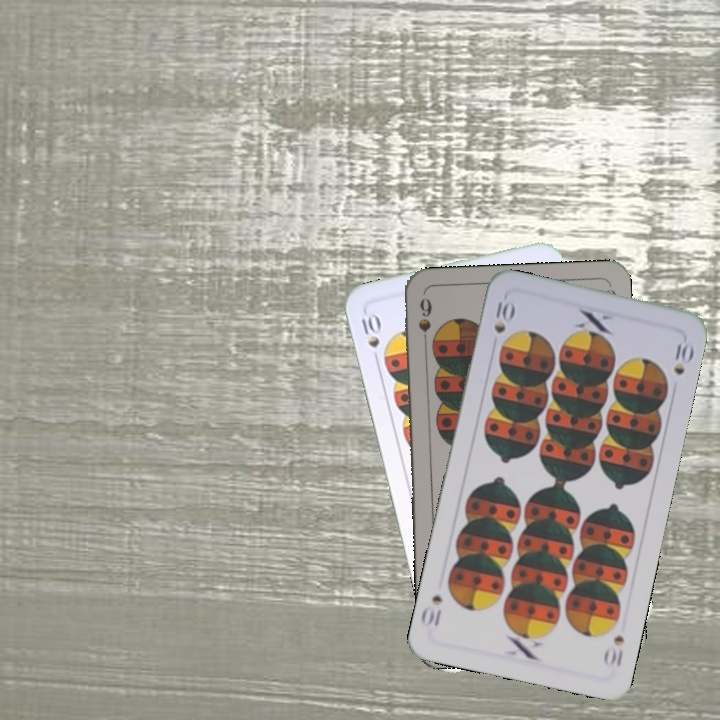S10: (357, 308, 382, 350), (600, 631, 627, 669), (490, 297, 516, 336)
S9: (414, 293, 434, 352)
